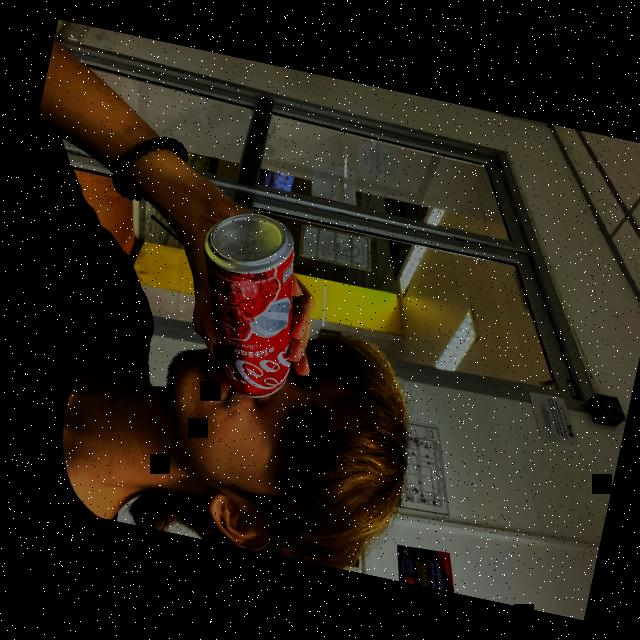can: (168, 198, 328, 416)
